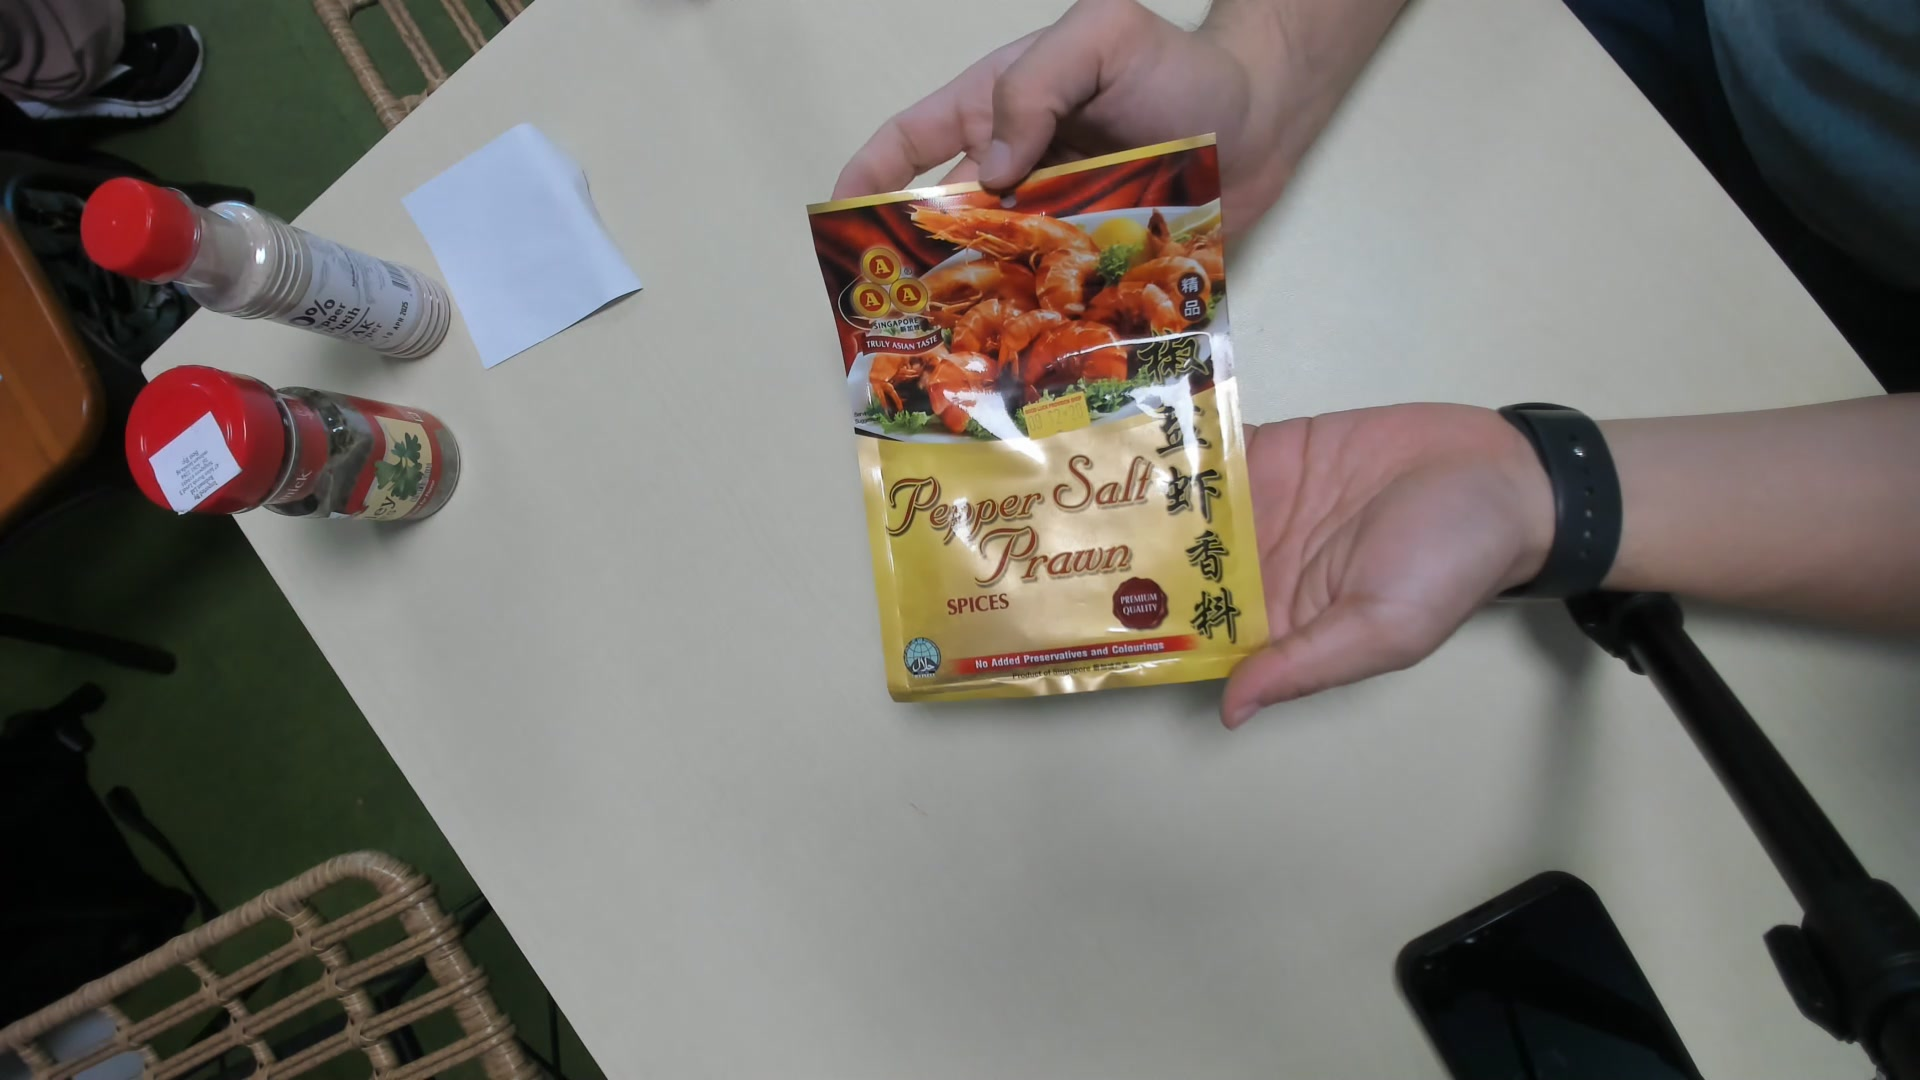HerbsSpicesPepper_400-499g_Halal_NonHealthy: (819, 135, 1276, 708)
